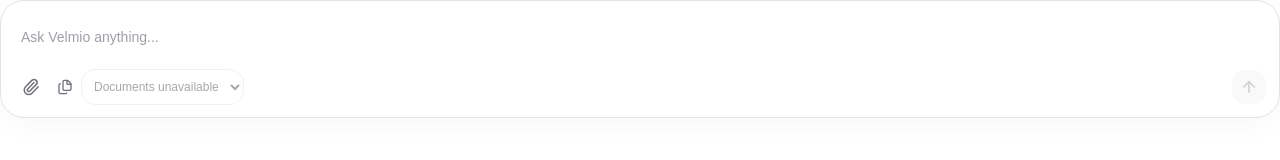
Test: ChatComposer › sends the typed message and clears the input
Type "Hello velmio" into the text box named "message velmio" at (640, 37), box [13,13,1267,61]
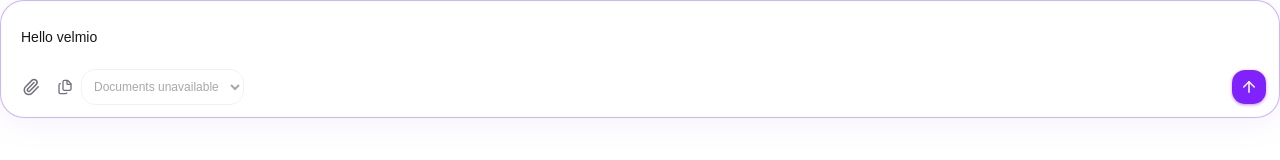
Click the button named "send message" at (1249, 87), box [1231,69,1267,105]
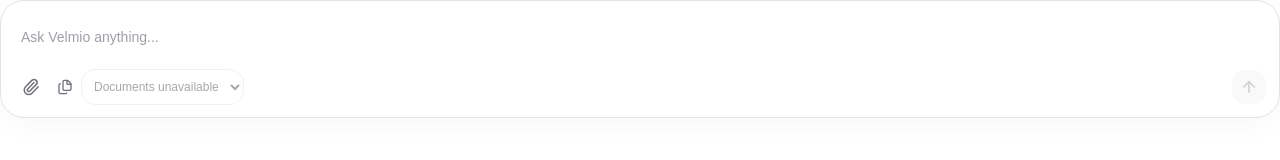
Expected: the text box named "message velmio" is empty, [13,13,1267,61]
